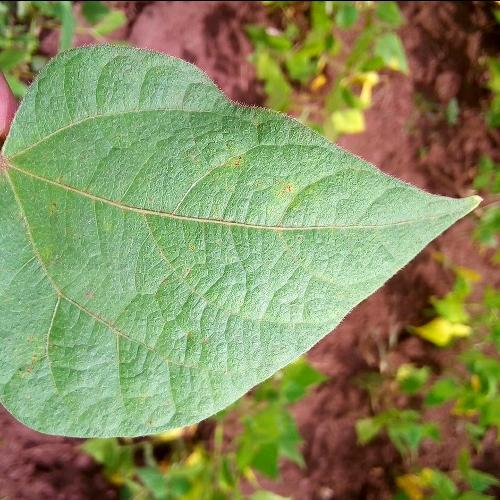hawar: (0, 58, 421, 443)
